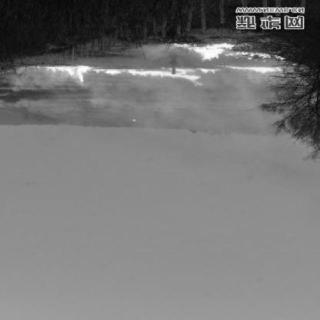Fire: (27, 64, 289, 86), (153, 39, 279, 62)
